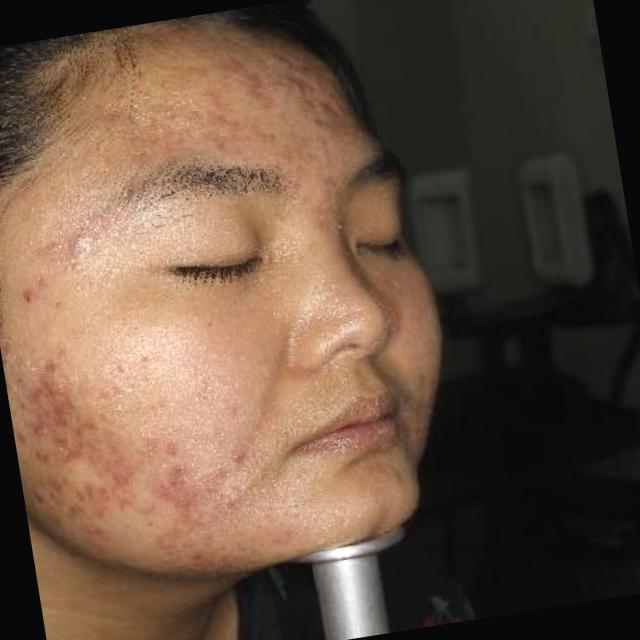nodules: (305, 96, 342, 125), (272, 74, 309, 102), (11, 282, 42, 310)
